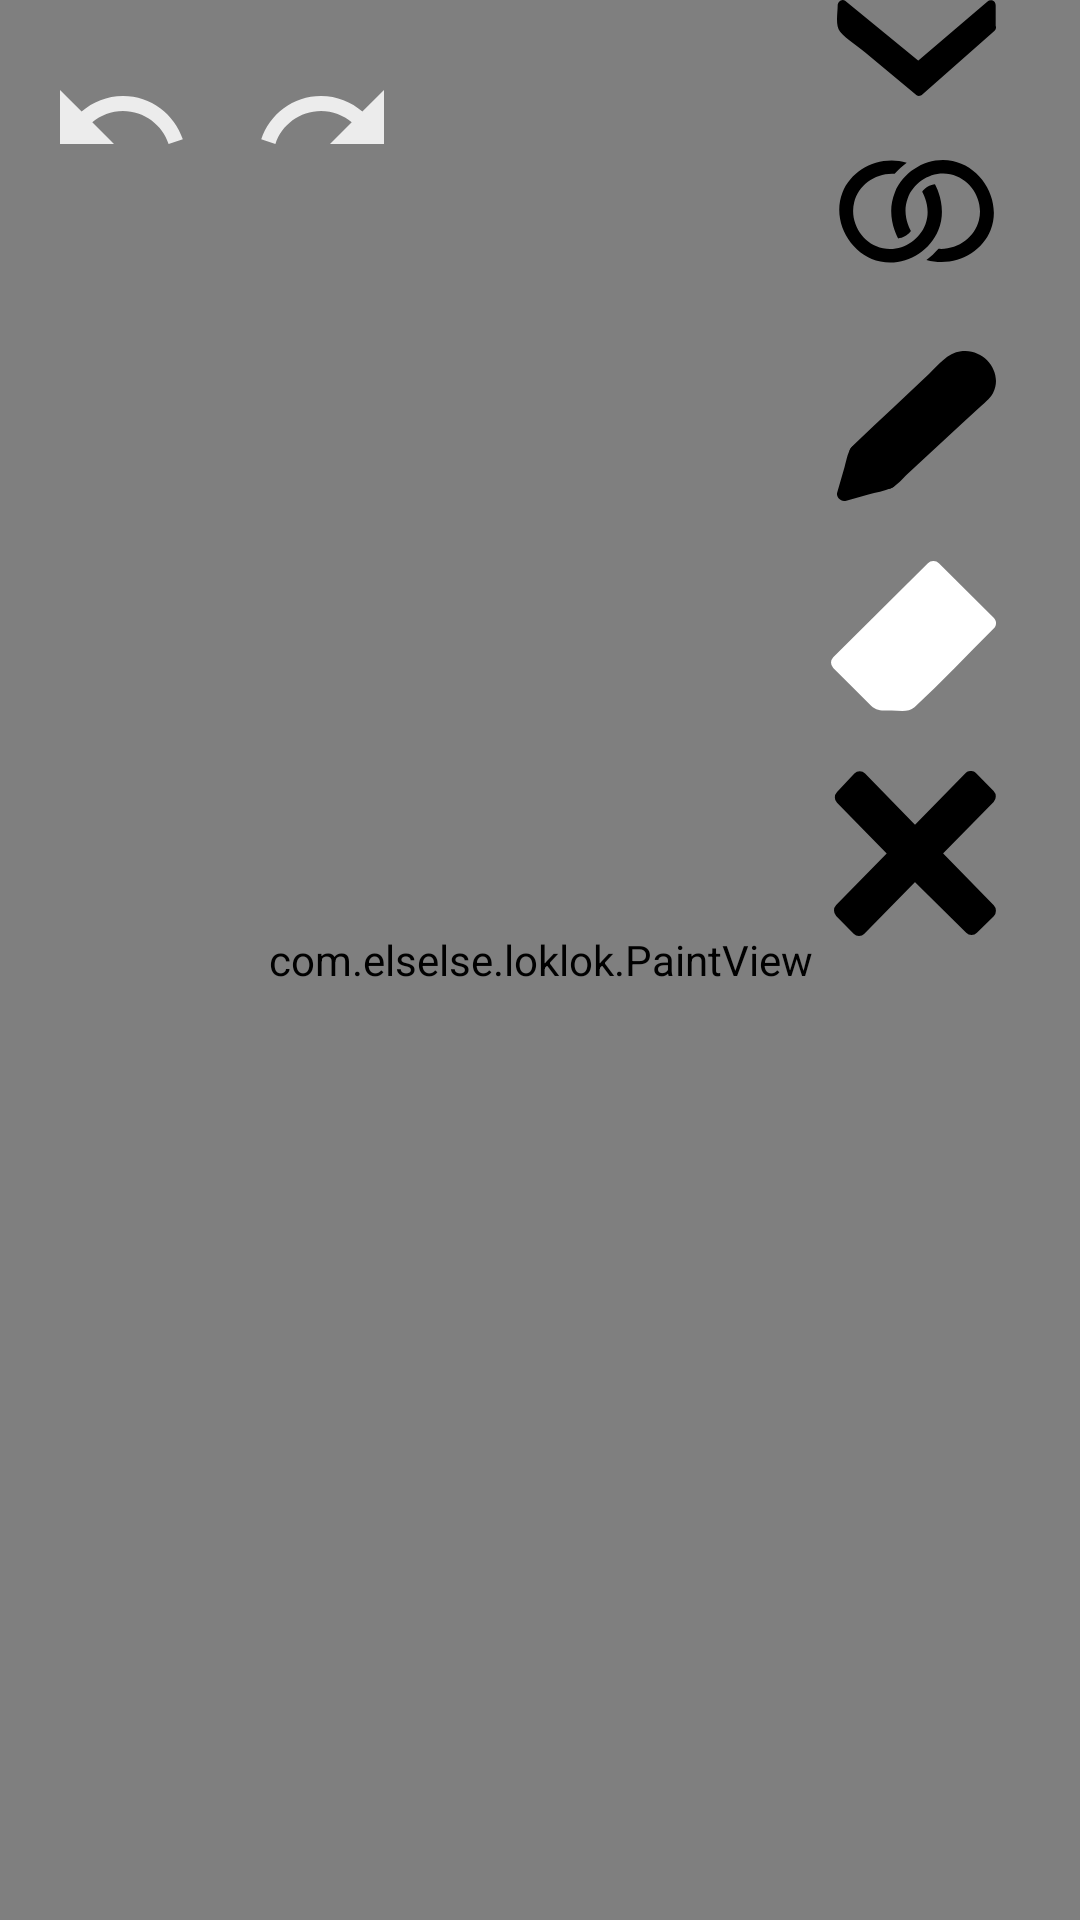

Icons on this 1080 x 1920 Android screen, each with its box as {"x1": x1, "y1": y1, "x2": x2, "y2": y2}:
clear: {"x1": 834, "y1": 771, "x2": 996, "y2": 936}
down: {"x1": 837, "y1": 0, "x2": 996, "y2": 96}
eraser: {"x1": 831, "y1": 561, "x2": 996, "y2": 711}
pair: {"x1": 839, "y1": 160, "x2": 994, "y2": 263}
pencil: {"x1": 837, "y1": 351, "x2": 996, "y2": 501}
redo: {"x1": 261, "y1": 90, "x2": 384, "y2": 144}
undo: {"x1": 60, "y1": 90, "x2": 183, "y2": 144}
